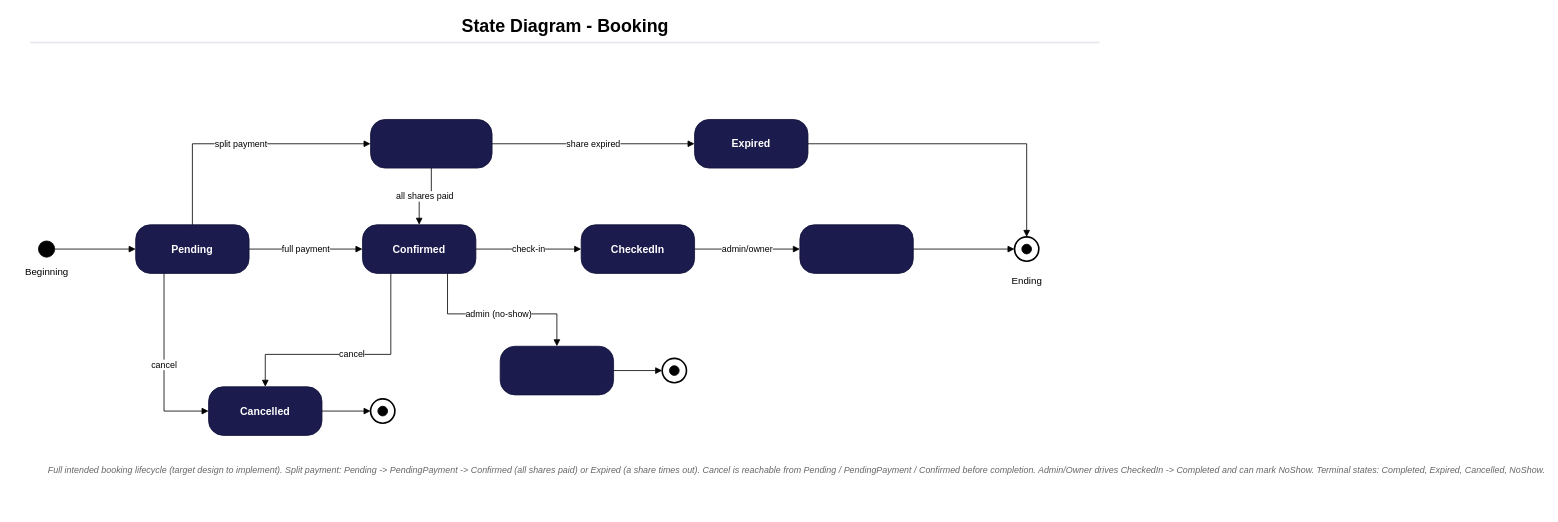
This 1558x522 diagram has some shape labels left out. Here are the shapes that lost their labels. From the top down, the box of each, then its label:
(370, 119, 492, 168): PendingPayment
(799, 224, 913, 273): Completed
(499, 345, 614, 395): NoShow
